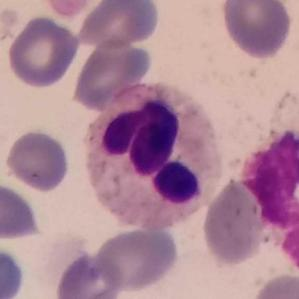Neutrophil: (78, 73, 232, 233)
Platelets: (0, 245, 28, 299)
RBC: (199, 174, 273, 267), (237, 124, 298, 232), (91, 225, 181, 294), (69, 38, 153, 111), (4, 14, 82, 90), (2, 127, 72, 194), (218, 0, 293, 60), (76, 0, 162, 50), (53, 250, 125, 298), (0, 179, 42, 242), (0, 246, 28, 299), (279, 208, 299, 281), (35, 0, 108, 20), (249, 271, 299, 299)
